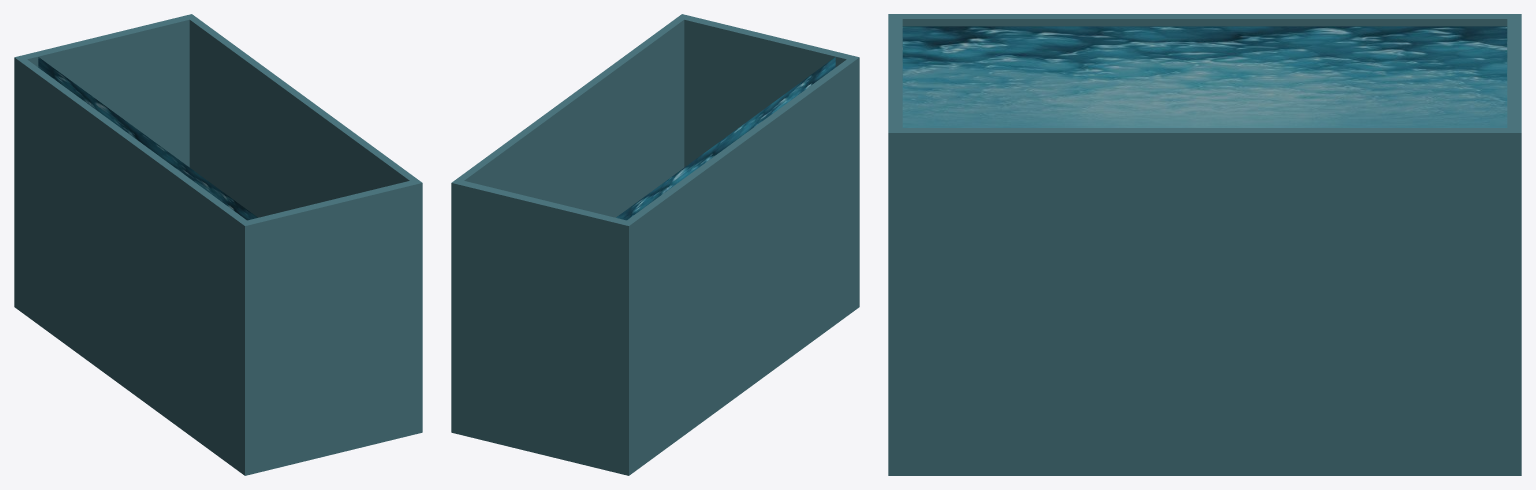
The model's file is submariun.fbx.
3 renders of one model, left to right at view 1: azimuth 30°, elevation 25°; view 2: azimuth 150°, elevation 25°; view 3: azimuth 270°, elevation 25°, orthographic. The views are drawn at different scales.
Visible parts, largest first — view 1: polySurface1, polySurface2; view 2: polySurface1, polySurface2; view 3: polySurface1, polySurface2.
Part boxes in pixels (box(x1,y1,x2,y2)): polySurface1: box(14, 14, 422, 475); polySurface2: box(38, 57, 257, 220); polySurface1: box(451, 14, 859, 475); polySurface2: box(616, 57, 835, 220); polySurface1: box(888, 14, 1521, 475); polySurface2: box(902, 26, 1507, 127).
Bounding box in the file's own units: 2.09 × 2.81 × 4.7.
